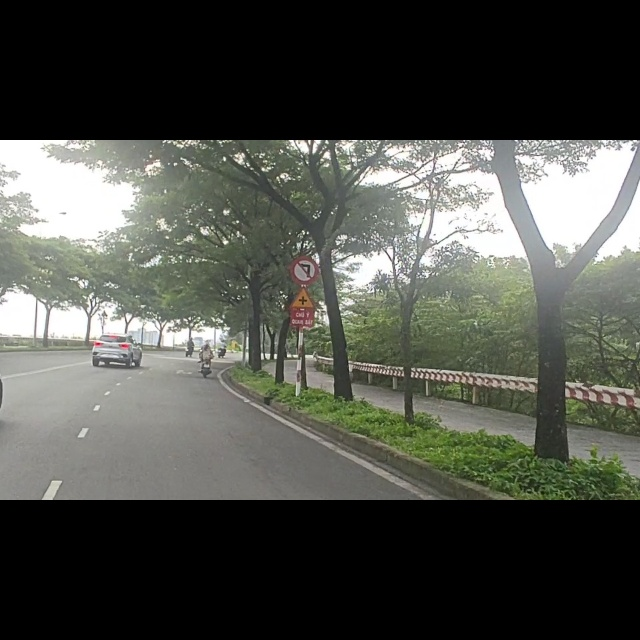bien_cam: (290, 205, 322, 260), (286, 257, 319, 300)
